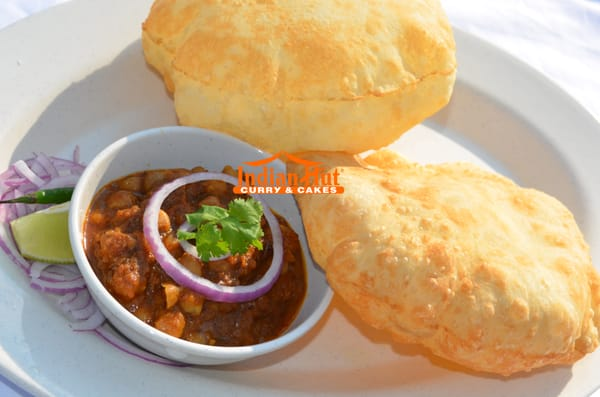sushi: (68, 126, 336, 371)
